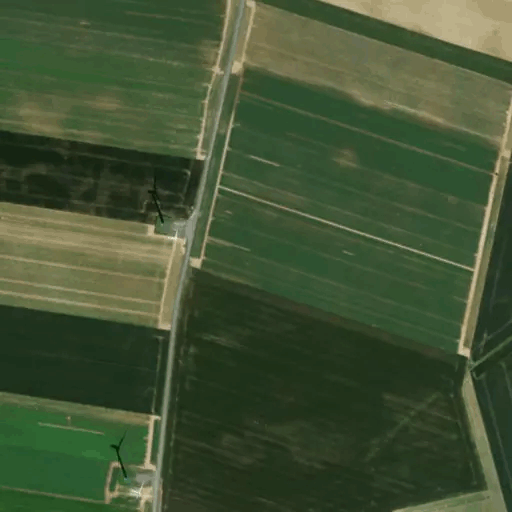wt: (98, 433, 157, 509), (138, 176, 196, 250)
